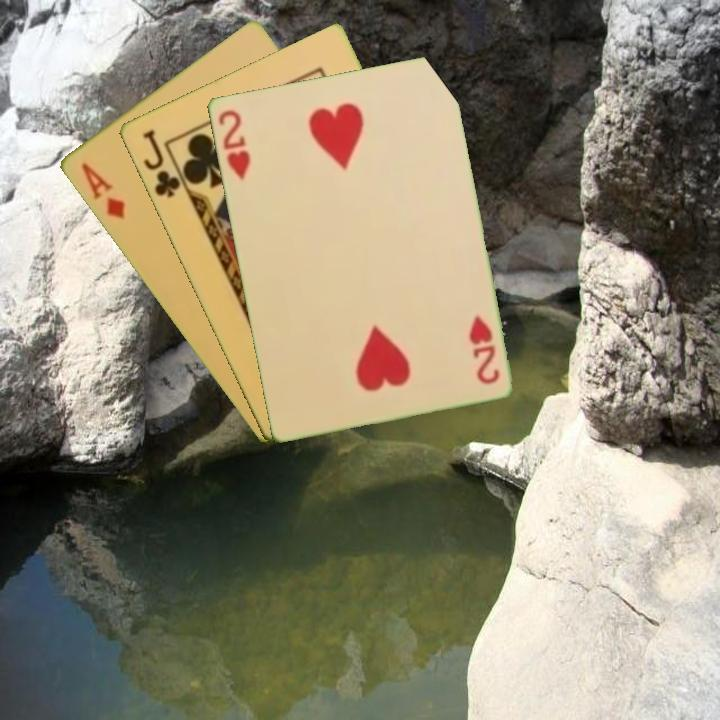2h: (214, 105, 253, 183), (465, 311, 502, 387)
Ad: (77, 159, 128, 223)
Jc: (138, 125, 183, 201)
